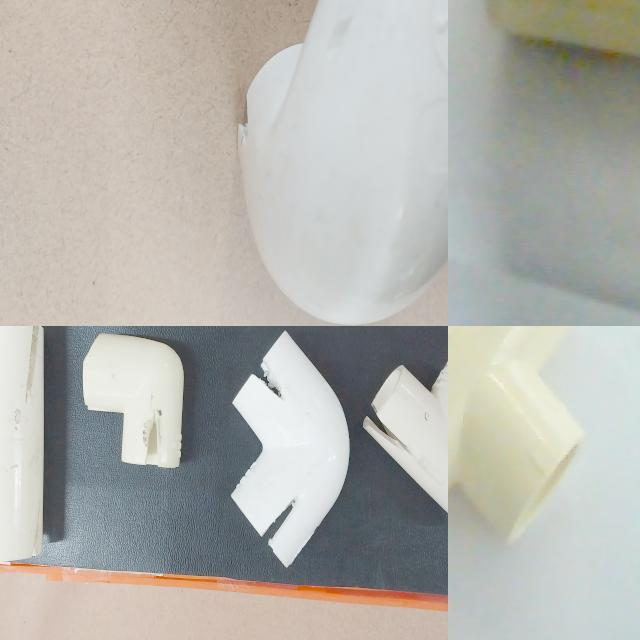Defective: (25, 604, 76, 640), (136, 326, 204, 343), (139, 618, 175, 640), (93, 482, 135, 499)
L Joint: (92, 398, 198, 538), (18, 591, 191, 640)
T Joint: (448, 326, 586, 547)
